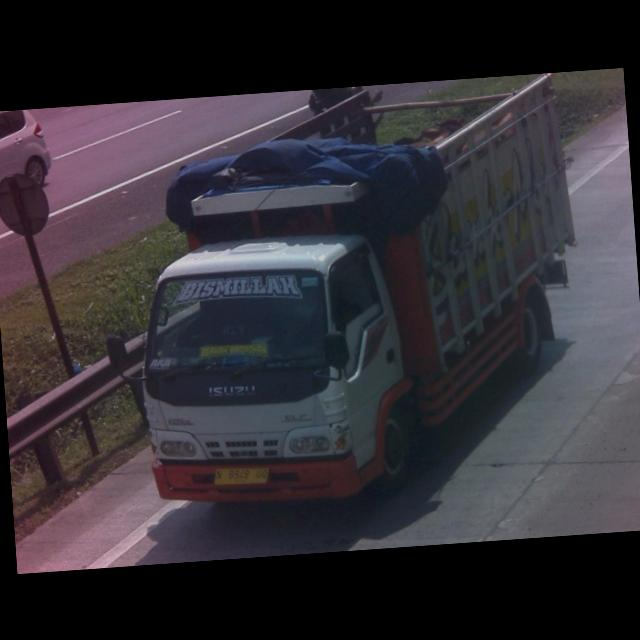plate: (210, 463, 270, 489)
